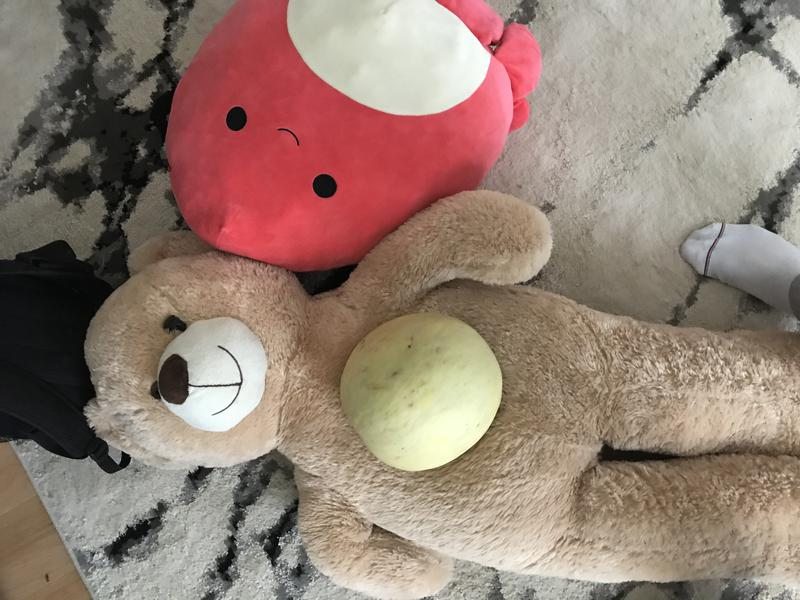honeydew: (334, 305, 511, 487)
